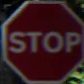Stop: (2, 4, 80, 78)
